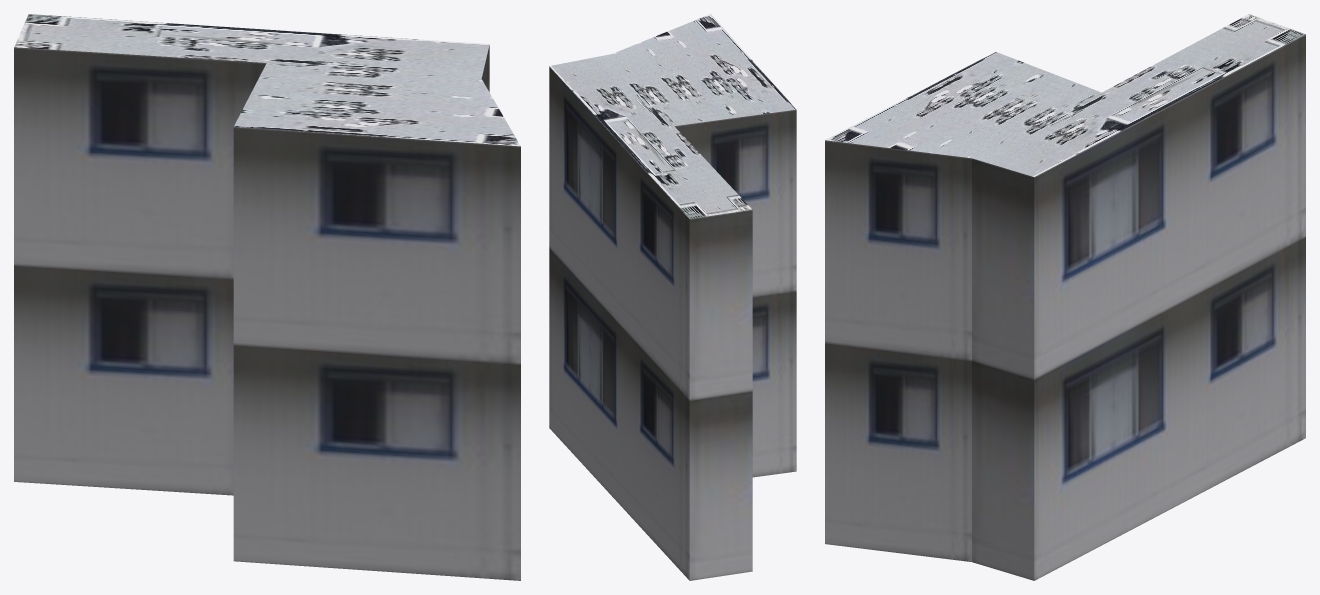
File: ResTex__5270.fbx
3 renders of one model, left to right at view 1: azimuth 30°, elevation 25°; view 2: azimuth 150°, elevation 25°; view 3: azimuth 270°, elevation 25°, orthographic. The views are drawn at different scales.
Parts seen in each view (by area): view 1: CityEngineMaterial_9_m, CityEngineMaterial_m; view 2: CityEngineMaterial_9_m, CityEngineMaterial_m; view 3: CityEngineMaterial_9_m, CityEngineMaterial_m.
Boxes of the visible parts, left/top/right/bottom form: CityEngineMaterial_9_m: left=14, top=45, right=520, bottom=580; CityEngineMaterial_m: left=14, top=14, right=520, bottom=146; CityEngineMaterial_9_m: left=549, top=66, right=796, bottom=580; CityEngineMaterial_m: left=549, top=14, right=796, bottom=218; CityEngineMaterial_9_m: left=825, top=34, right=1305, bottom=580; CityEngineMaterial_m: left=825, top=14, right=1305, bottom=176.
Size of the model in its own units: 5.2 by 6 by 6.47.
Materials: 2 (2 with a texture image).
